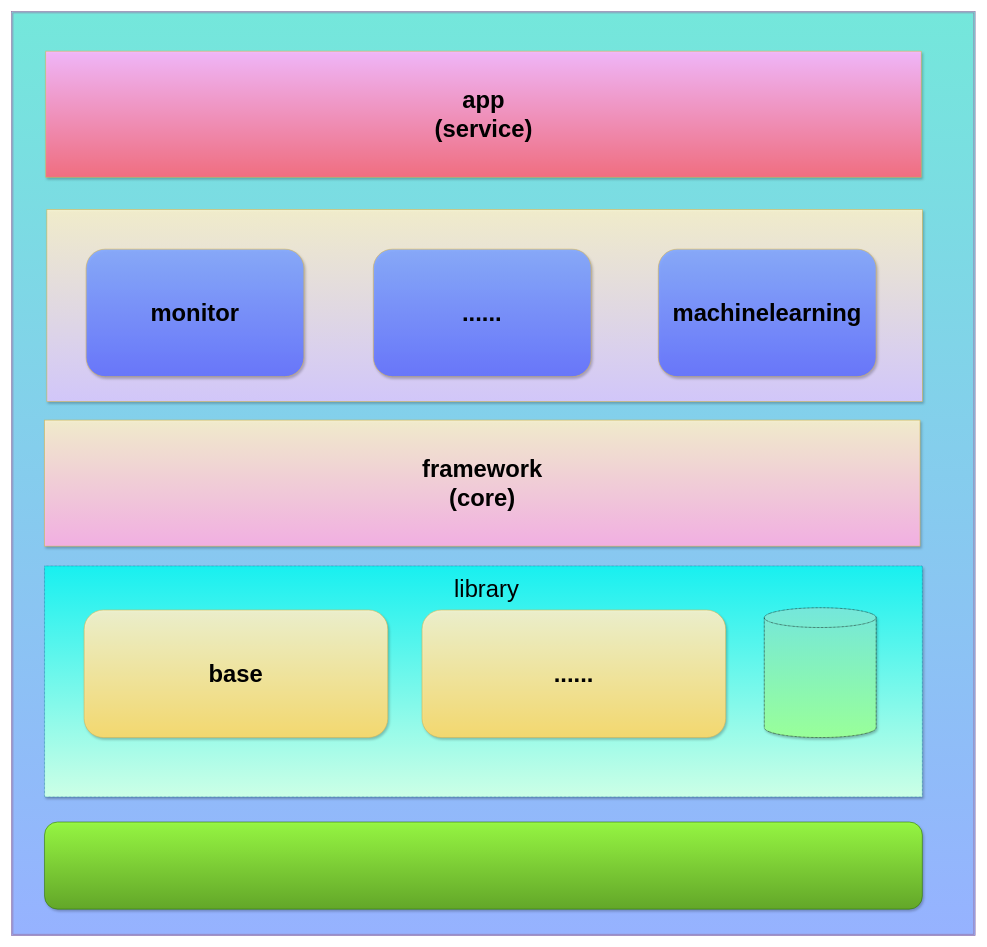
Image size: 987x947. Some labels were removed from this diagram. Here are the shapes that lost their labels. From the top down, the centre of each, then its label:
At (x=820, y=673): "database".
At (x=483, y=866): "sdk".
